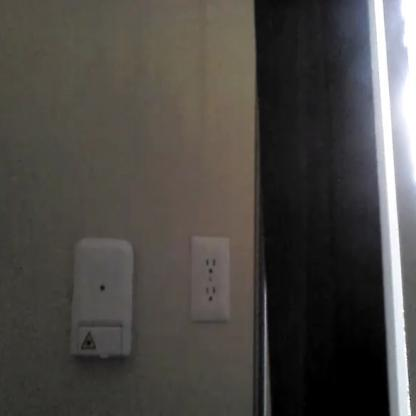OUTLET: (190, 235, 232, 324)
